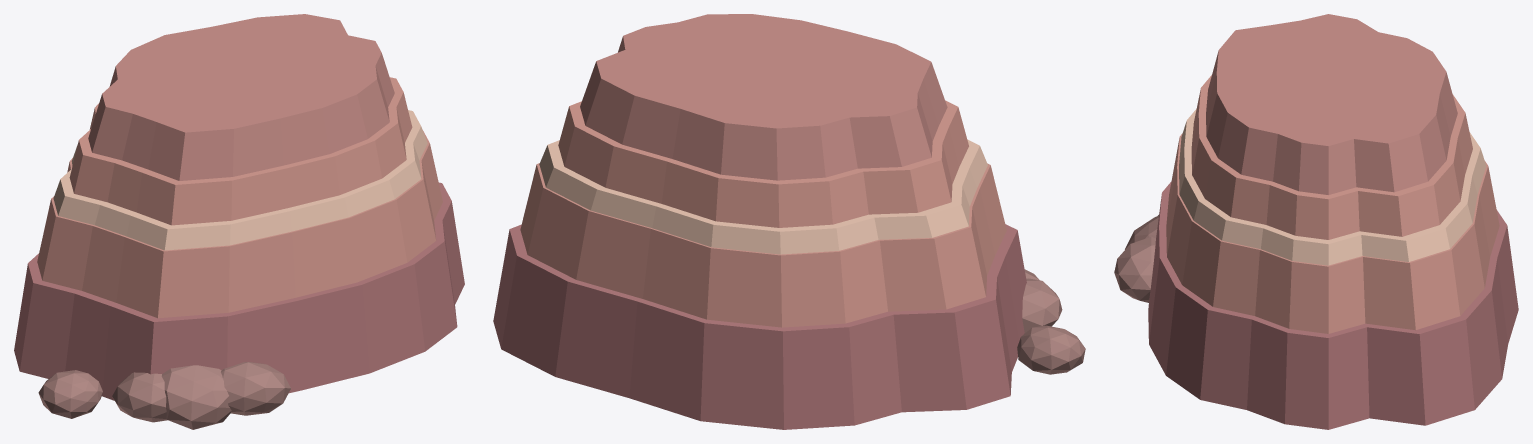
File: SkateButte.glb
The picture shows the model from 3 angles, left to right: view 1: azimuth 30°, elevation 25°; view 2: azimuth 150°, elevation 25°; view 3: azimuth 270°, elevation 25°; orthographic projection. The views are drawn at different scales.
Visible parts, largest first — view 1: RockMid, RockTop, RockLow, Boulders, Stripe; view 2: RockMid, RockLow, RockTop, Stripe, Boulders; view 3: RockMid, RockLow, RockTop, Stripe, Boulders.
Boxes of the visible parts, bbox=[...] form: RockMid: bbox=[37, 77, 442, 318]; RockTop: bbox=[88, 14, 394, 180]; RockLow: bbox=[14, 182, 464, 400]; Boulders: bbox=[38, 362, 290, 429]; Stripe: bbox=[53, 110, 427, 250]; RockMid: bbox=[520, 100, 1006, 327]; RockLow: bbox=[493, 224, 1026, 429]; RockTop: bbox=[580, 14, 947, 180]; Stripe: bbox=[539, 139, 987, 254]; Boulders: bbox=[1017, 269, 1085, 374]; RockMid: bbox=[1166, 75, 1499, 333]; RockLow: bbox=[1148, 182, 1518, 429]; RockTop: bbox=[1206, 14, 1457, 194]; Stripe: bbox=[1179, 109, 1486, 265]; Boulders: bbox=[1114, 215, 1158, 302].
Bounding box in the file's own units: 78.19 × 42.58 × 59.88.
